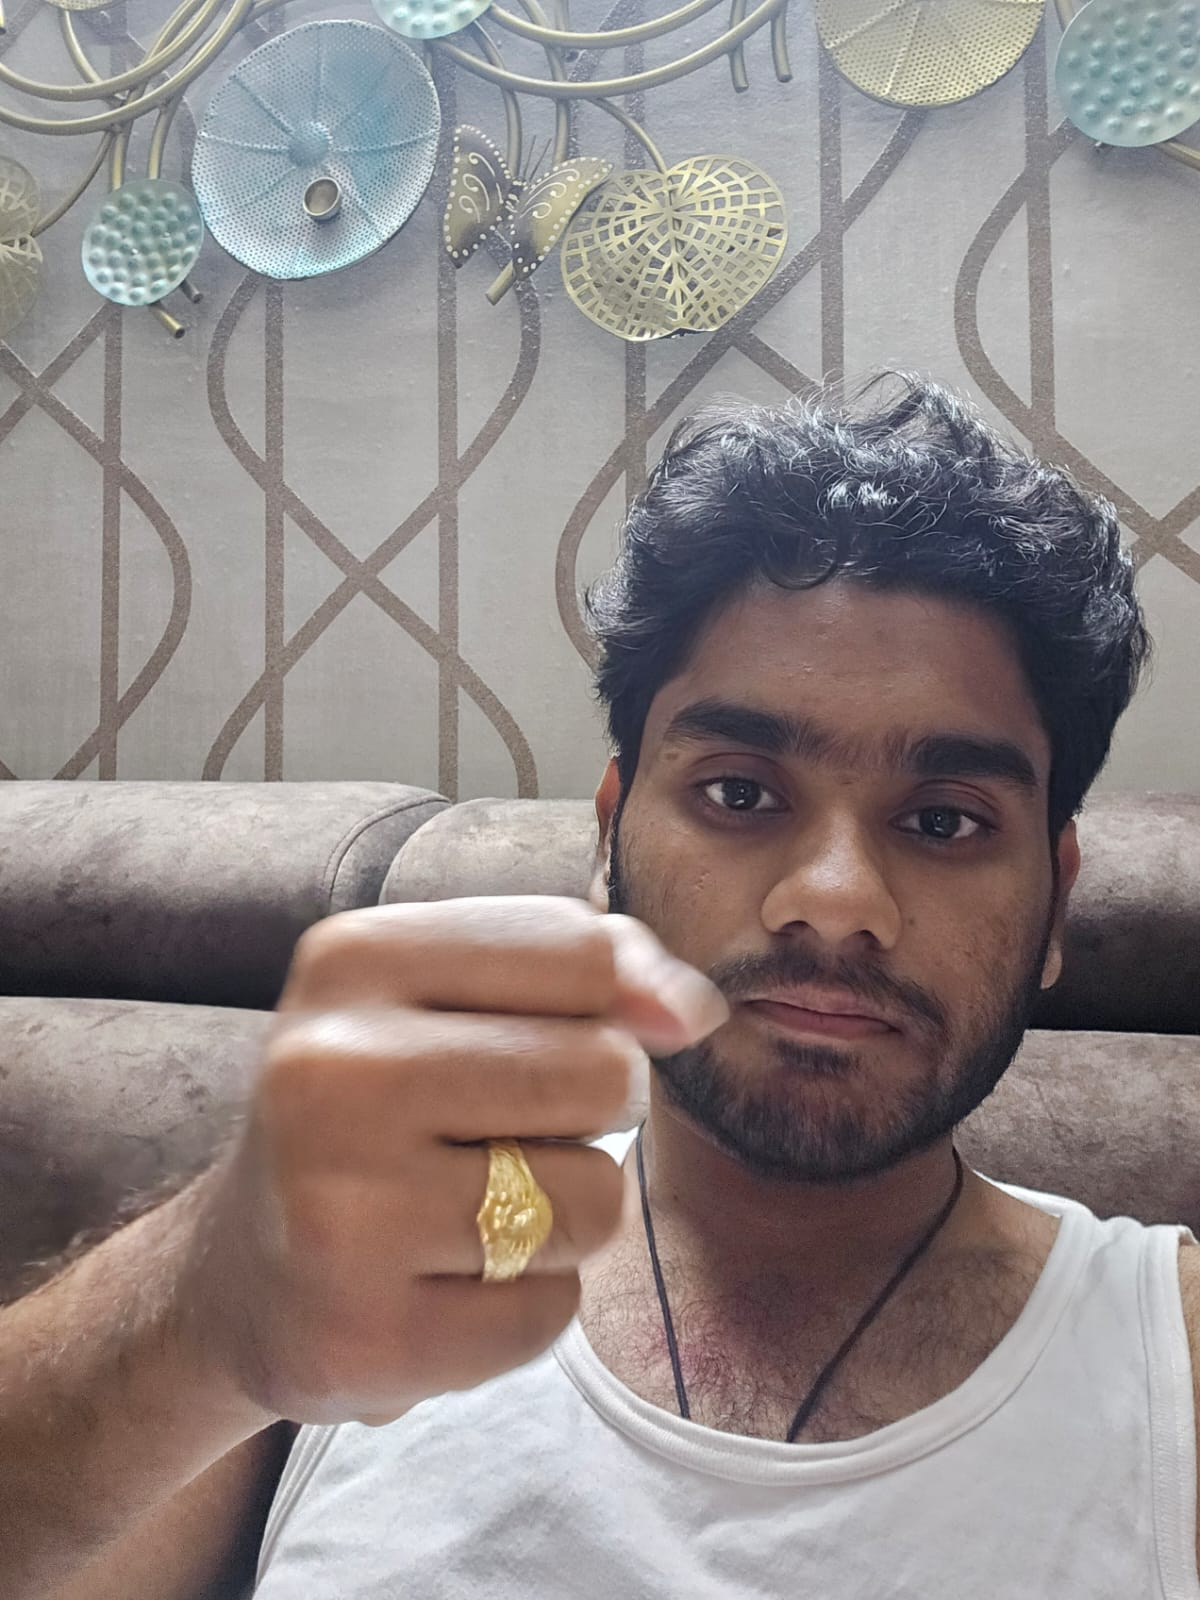yes: (208, 894, 724, 1429)
